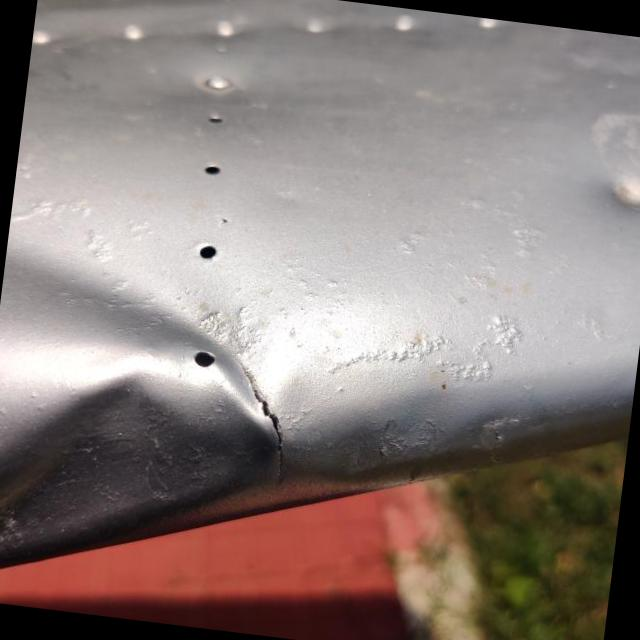Crack: (244, 372, 283, 482)
Dent: (0, 238, 280, 566), (600, 144, 640, 209)
